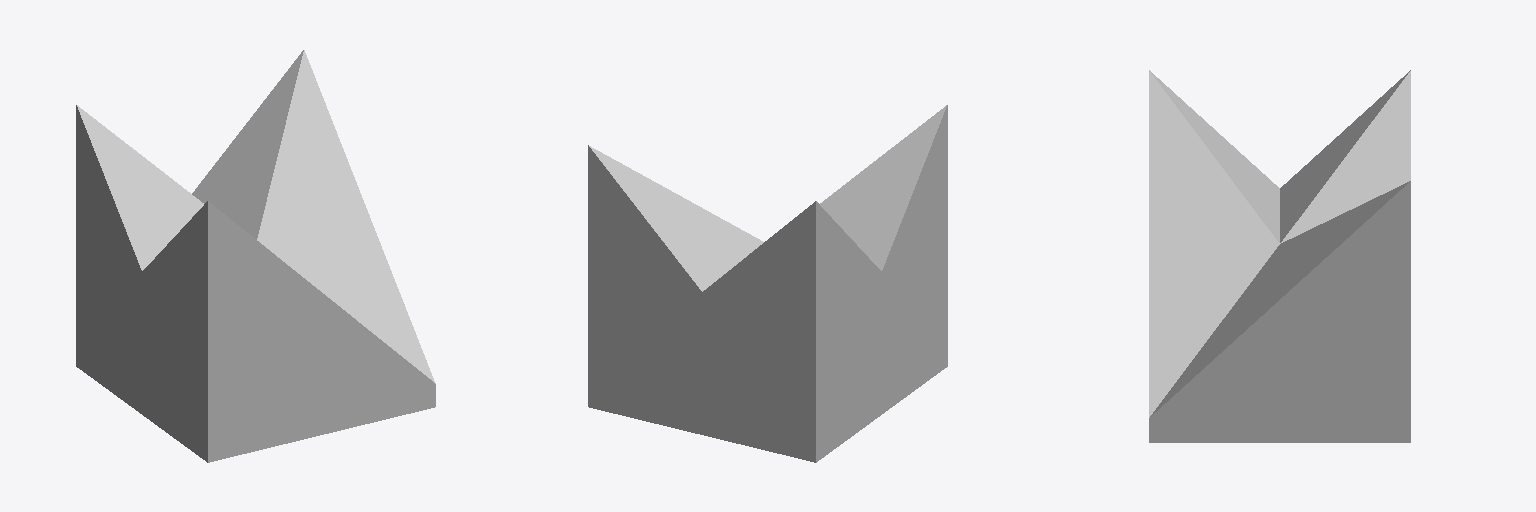
3 renders of one model, left to right at view 1: azimuth 30°, elevation 25°; view 2: azimuth 150°, elevation 25°; view 3: azimuth 270°, elevation 25°, orthographic.
Parts seen in each view (by area): view 1: cube2; view 2: cube2; view 3: cube2.
Boxes of the visible parts, box(x1,y1,x2,y2) form: cube2: box(76, 50, 435, 462); cube2: box(588, 105, 947, 462); cube2: box(1149, 70, 1410, 442).
Size of the model in its own units: 1 by 1.1 by 1.